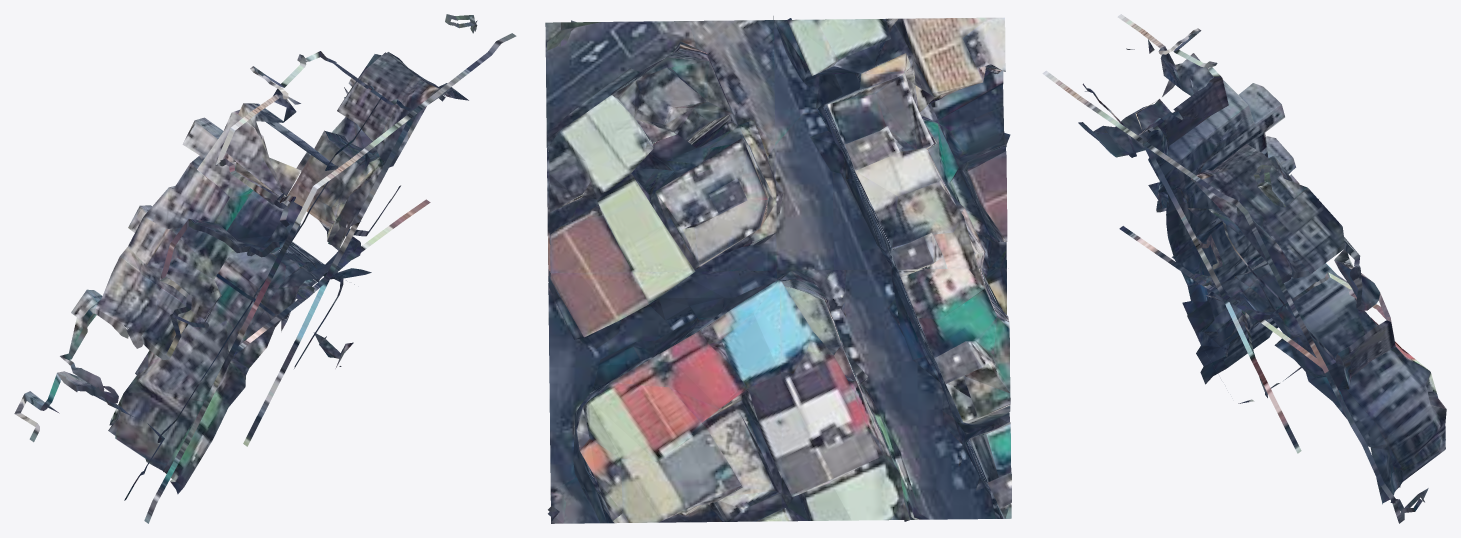
The picture shows the model from 3 angles, left to right: view 1: azimuth 30°, elevation 25°; view 2: azimuth 150°, elevation 25°; view 3: azimuth 270°, elevation 25°; orthographic projection. The views are drawn at different scales.
Bounding box in the file's own units: 89.42 × 79.28 × 72.17.
1 material, 1 textured.
